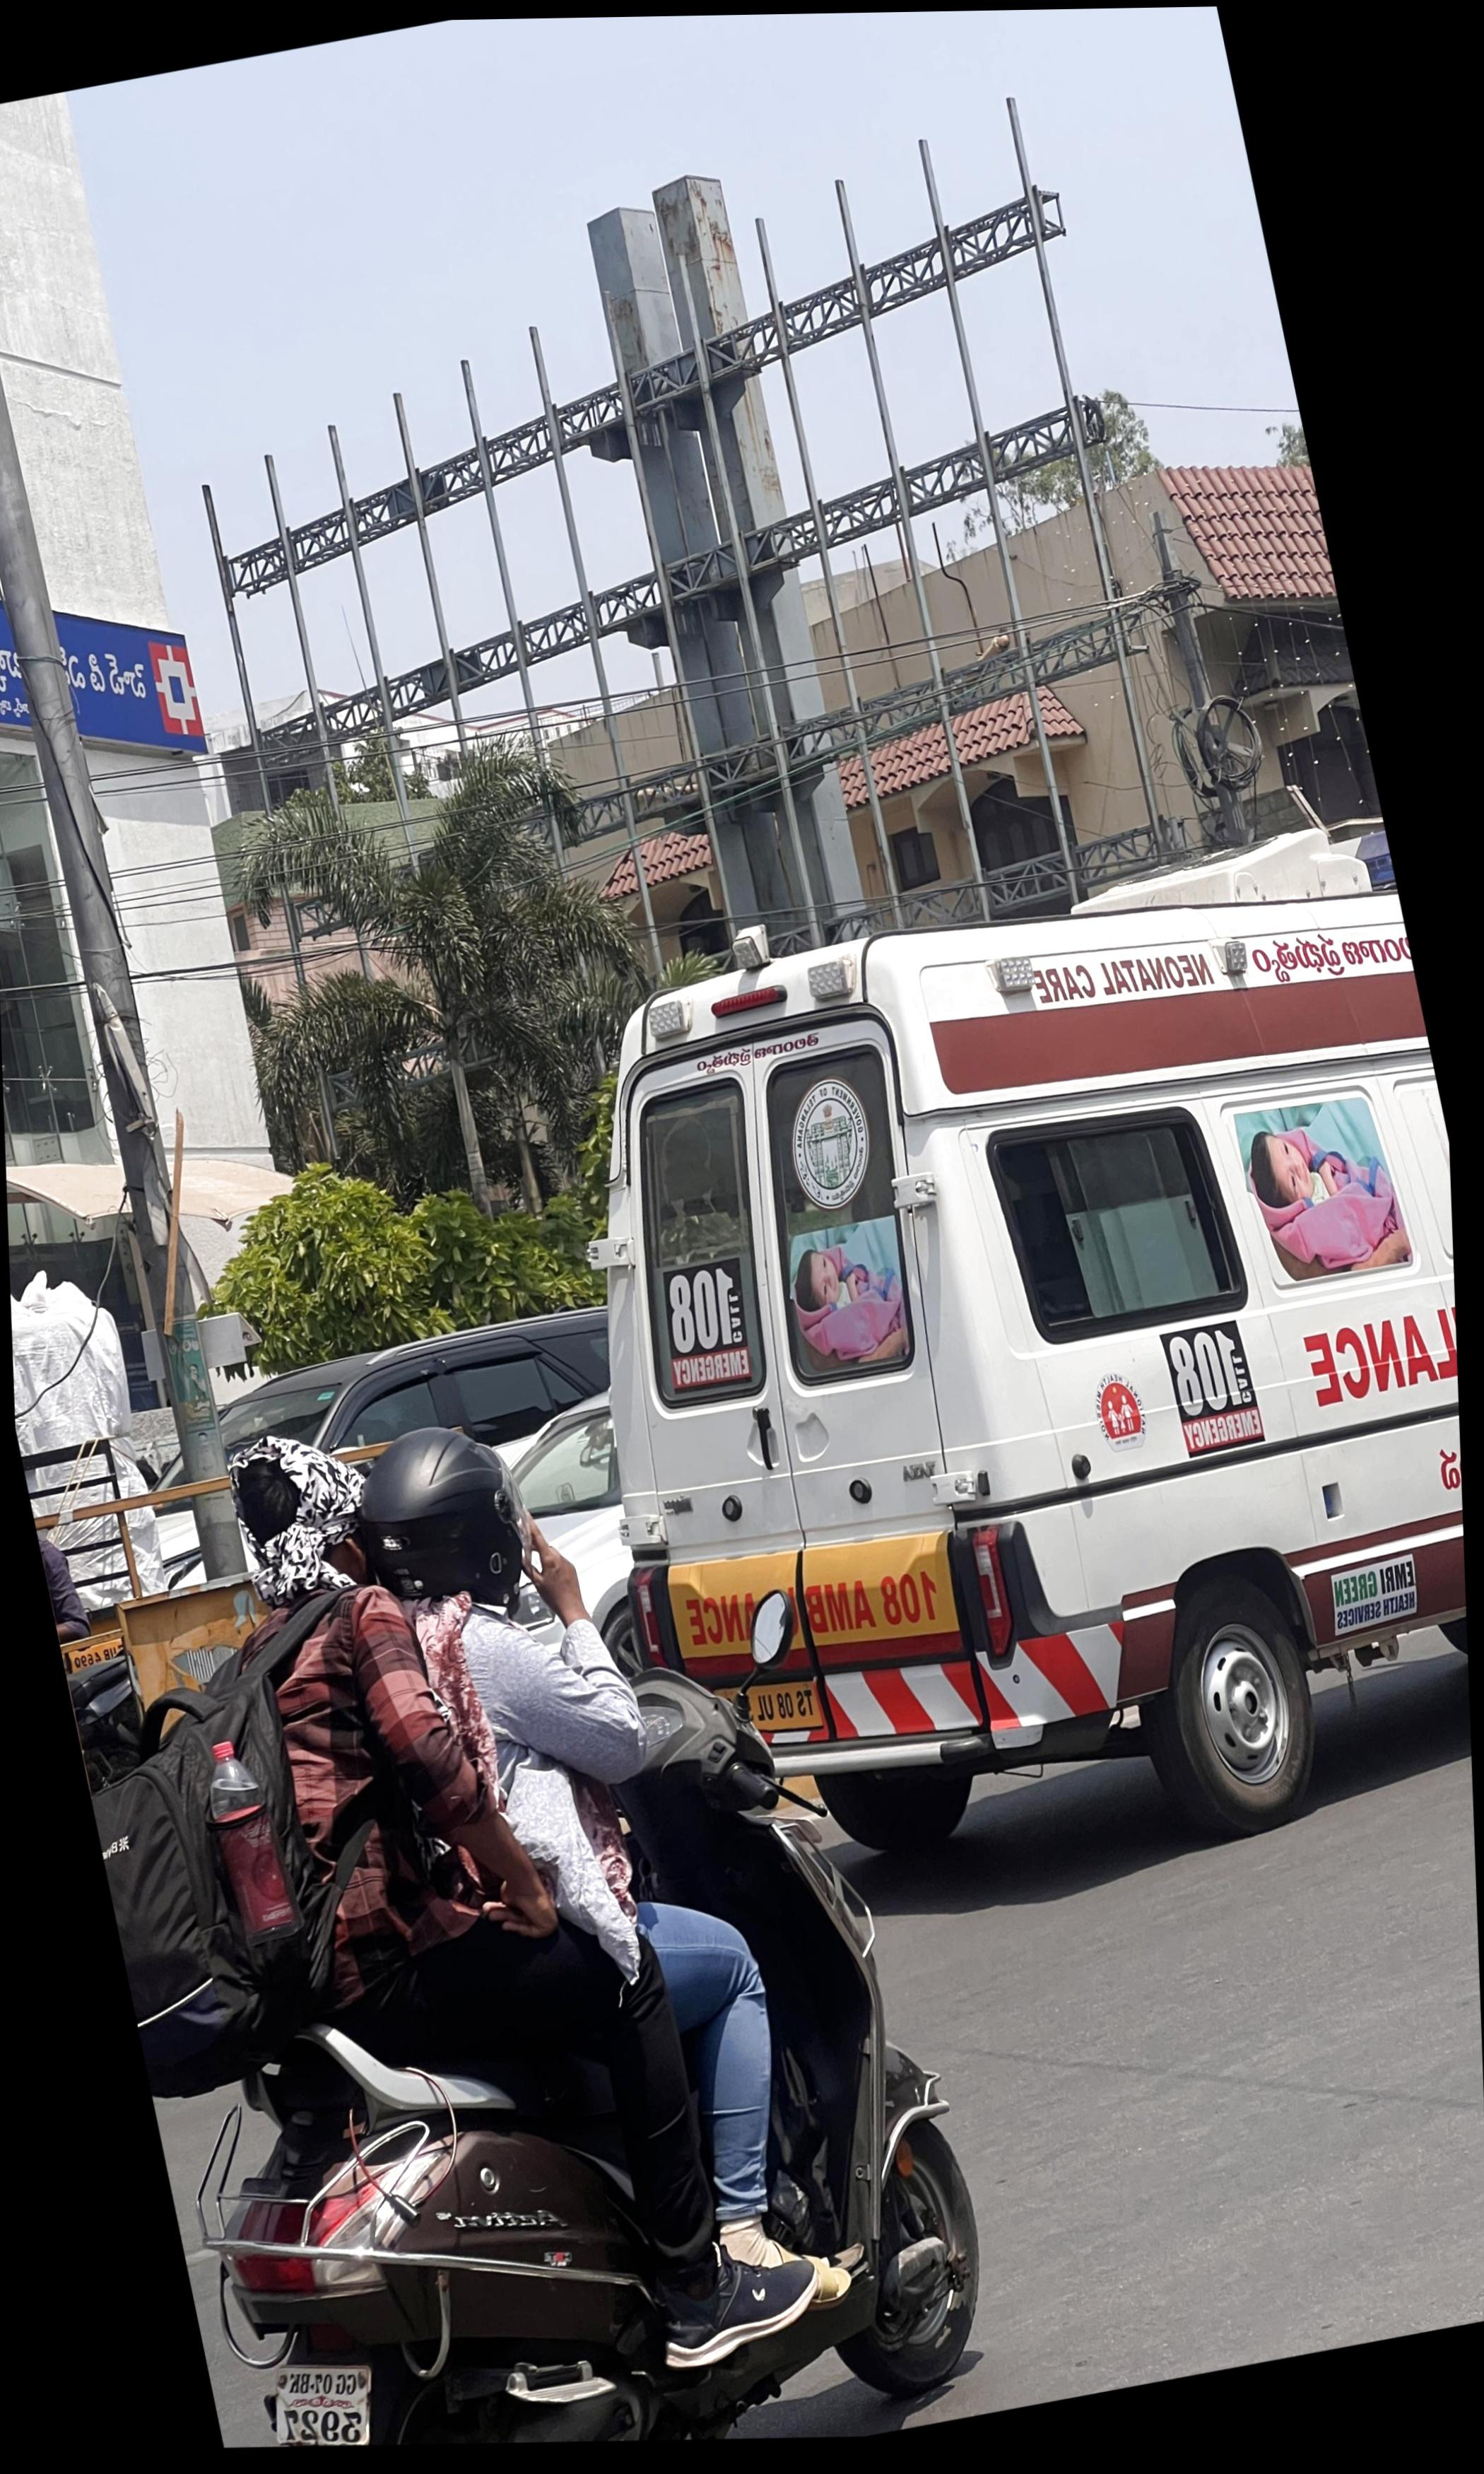ambulance: (597, 880, 1466, 1859)
